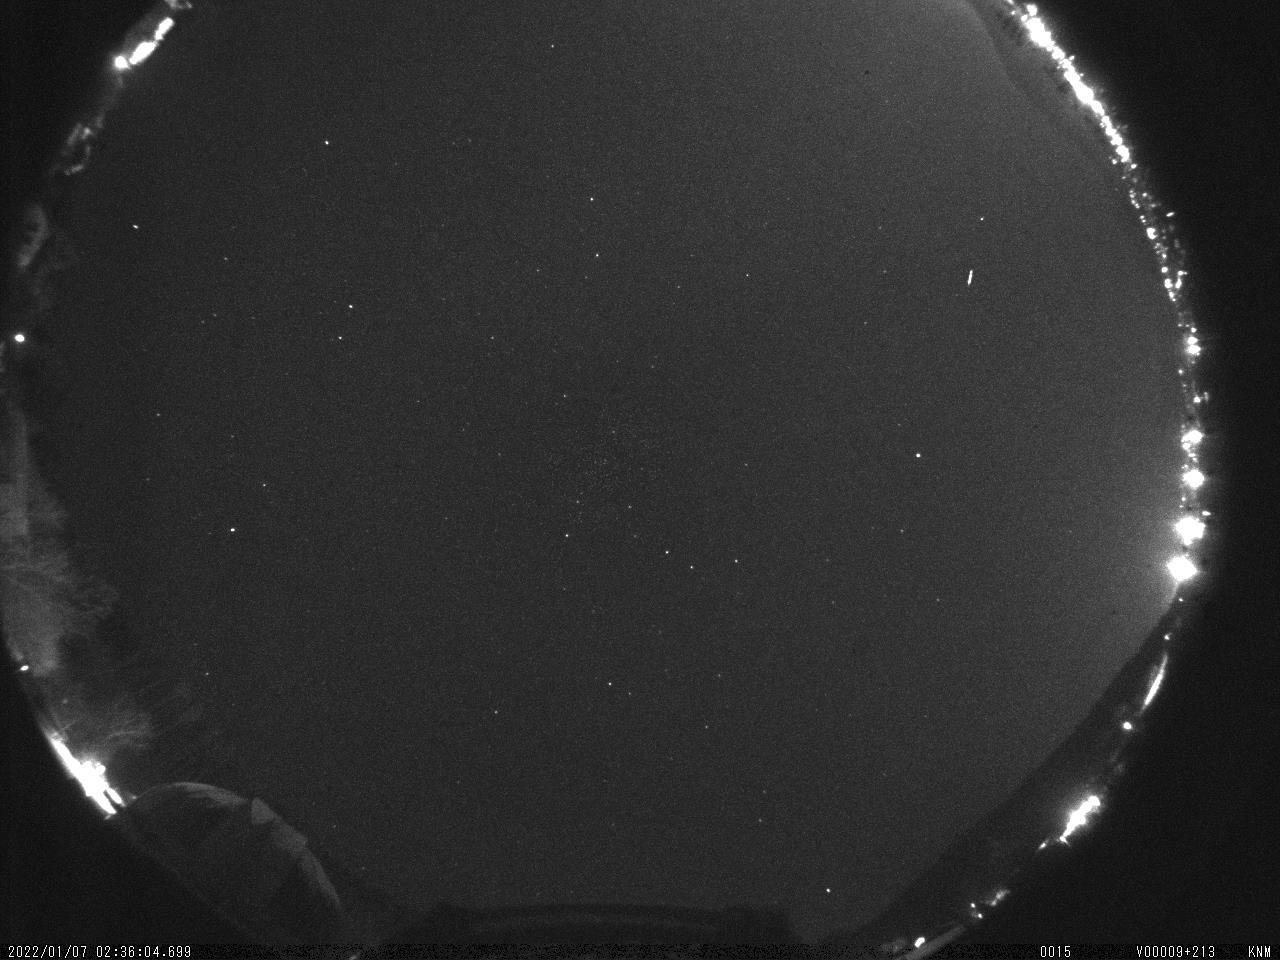Meteor: (964, 267, 975, 288)
